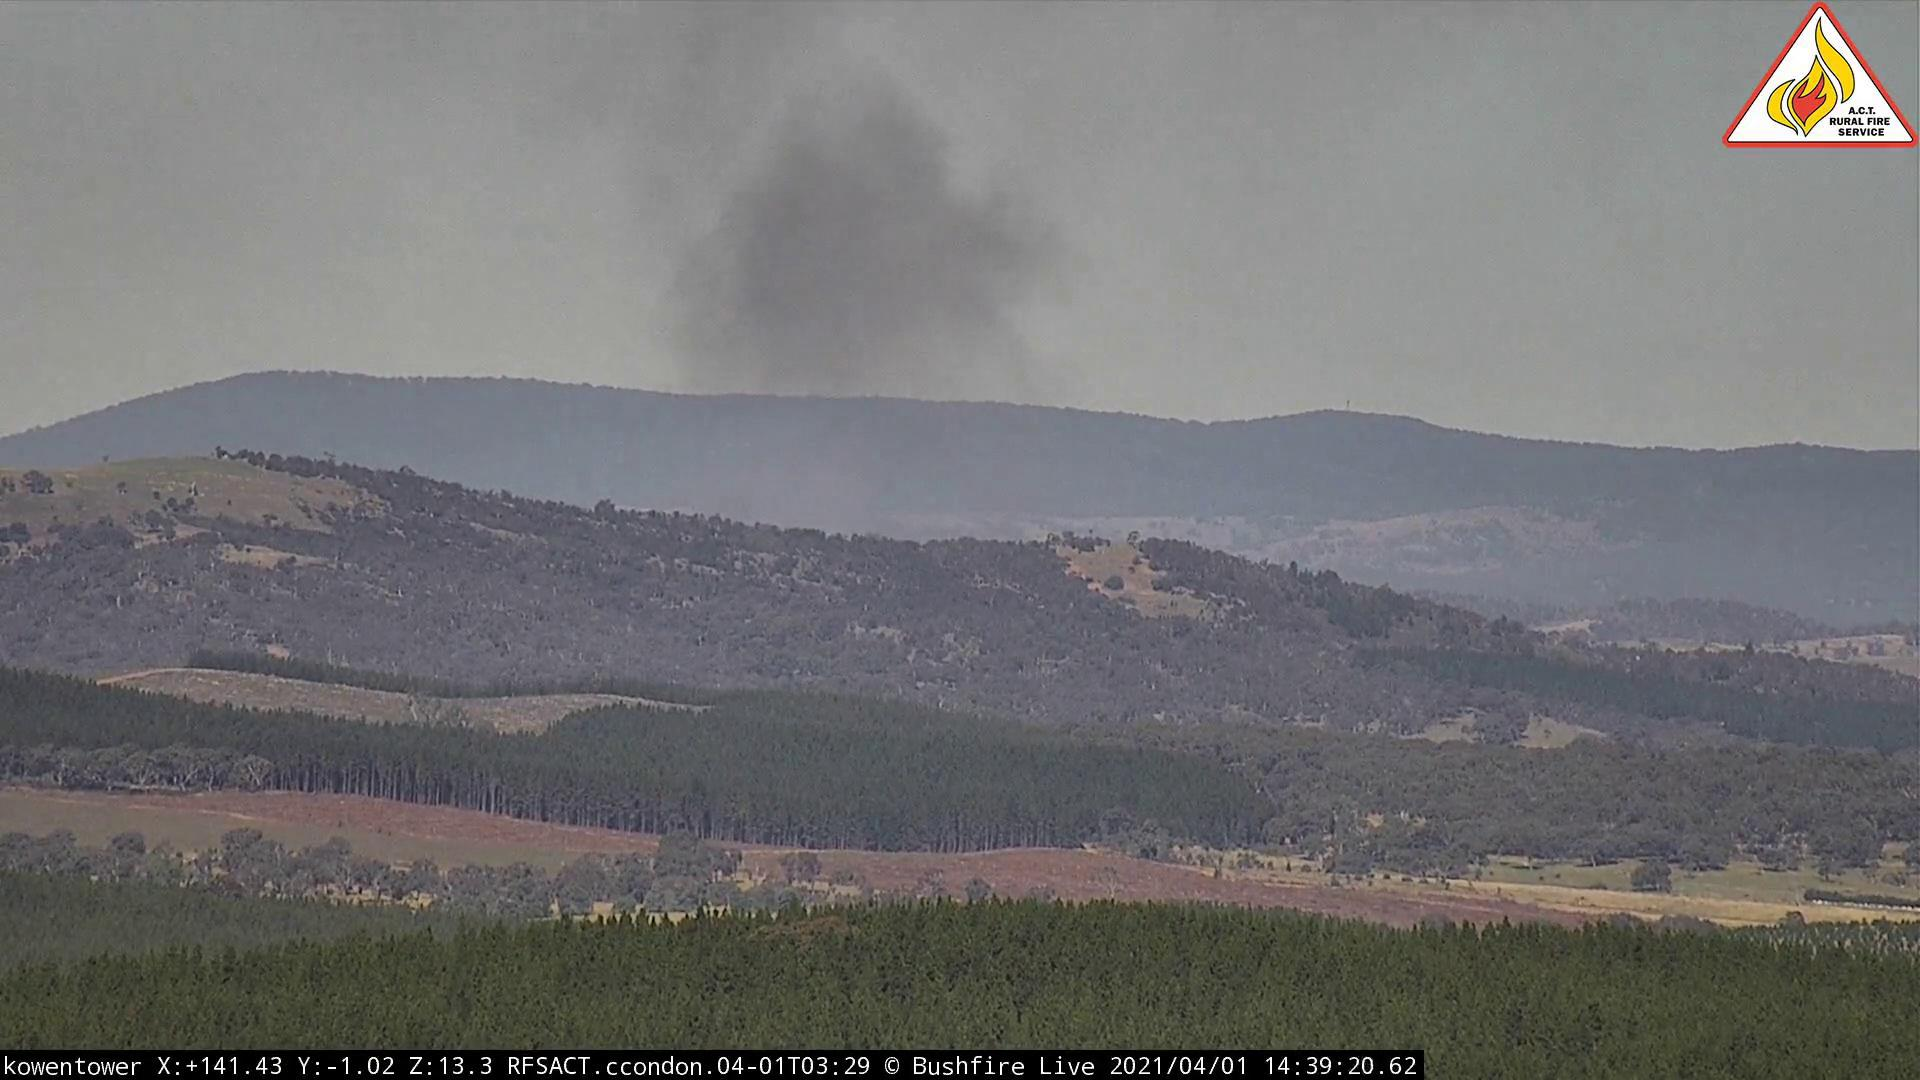Smoke: (626, 53, 1098, 467)
